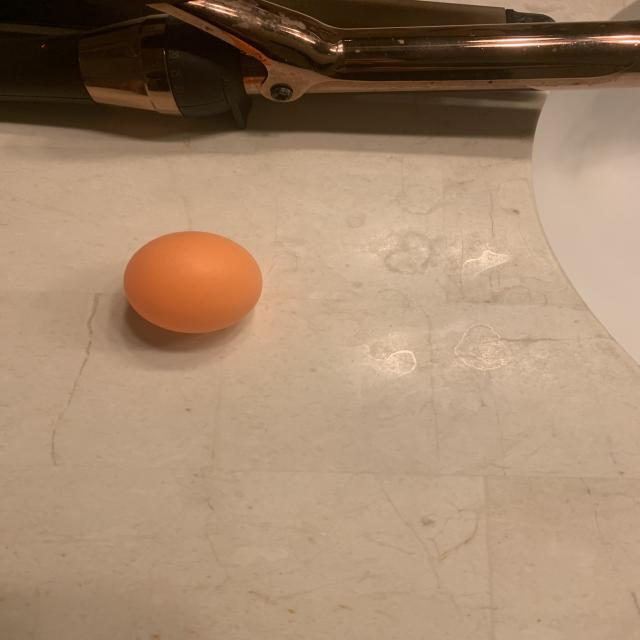ping-pong-ball: (116, 221, 268, 342)
